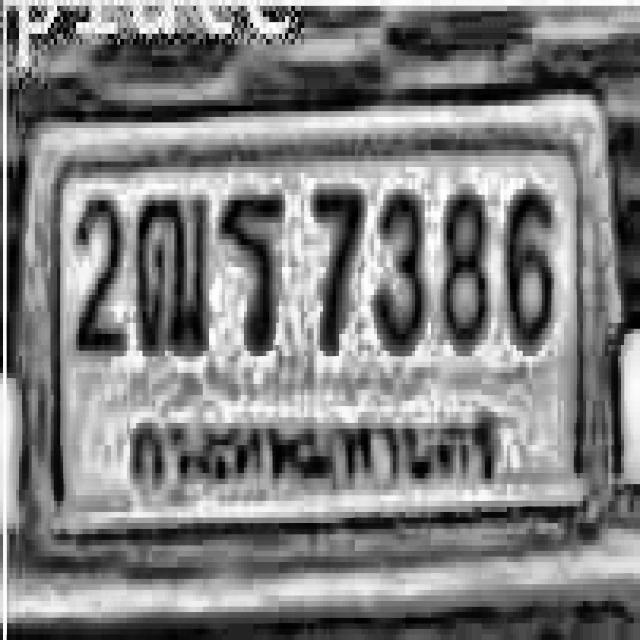license-plate: (8, 119, 640, 556)
